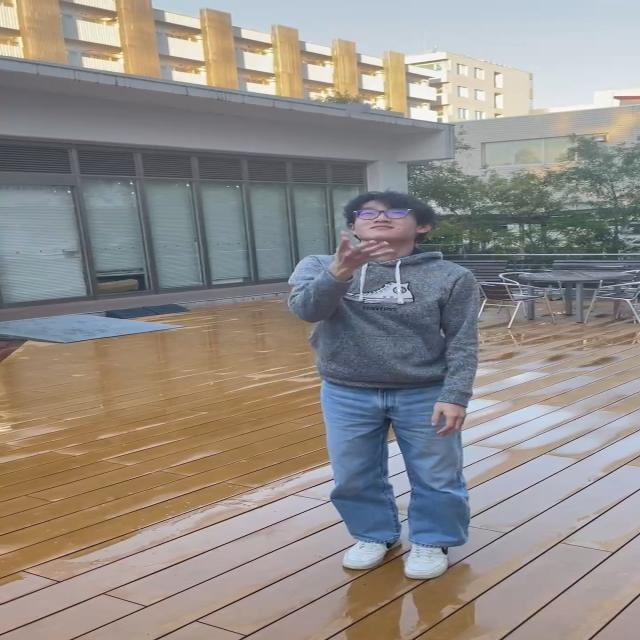paper: (346, 104, 370, 114)
